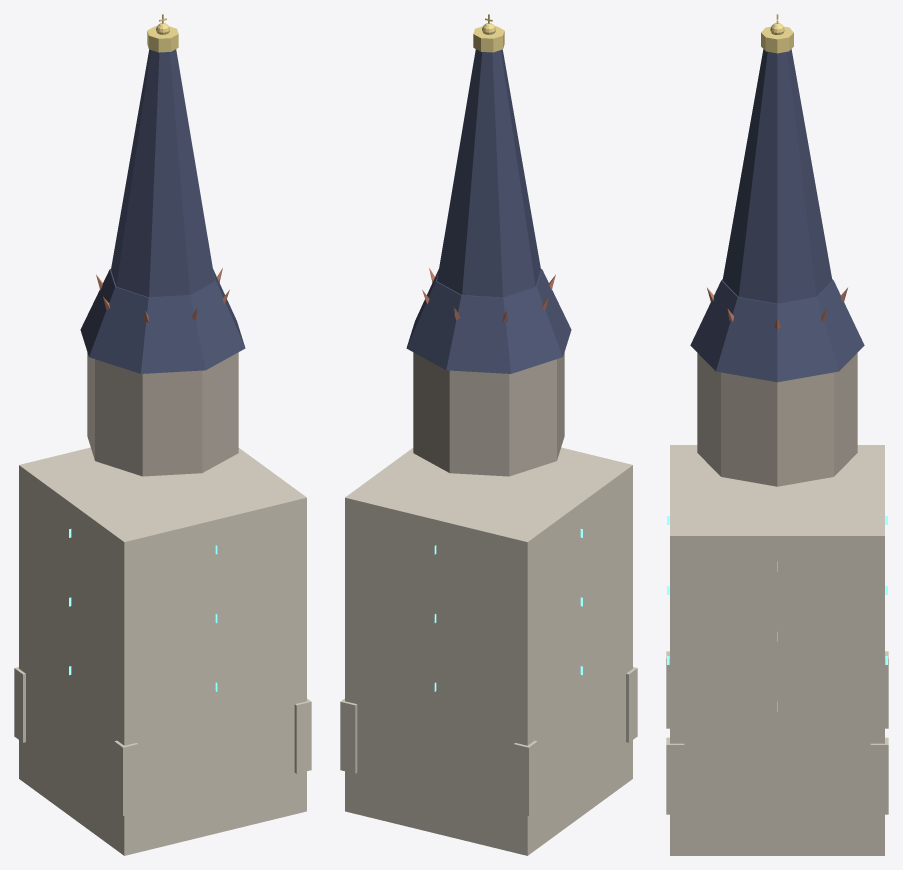
The model's file is church_spire_v12.glb.
3 views of the same model, side by side, from view 1: azimuth 30°, elevation 25°; view 2: azimuth 150°, elevation 25°; view 3: azimuth 270°, elevation 25° (orthographic).
Visible parts, largest first — view 1: Cube, Cone.001, Cylinder, Cone, Cube.001, Cube.002, Cube.003, Cylinder.001; view 2: Cube, Cone.001, Cylinder, Cone, Cube.003, Cube.004, Cube.001, Cylinder.001; view 3: Cube, Cone.001, Cylinder, Cone, Cube.002, Cube.004, Cylinder.001.
Part boxes in pixels (bbox=[...]): Cube: bbox=[19, 447, 306, 855]; Cone.001: bbox=[111, 49, 214, 297]; Cylinder: bbox=[87, 352, 238, 476]; Cone: bbox=[80, 269, 245, 373]; Cube.001: bbox=[114, 740, 138, 815]; Cube.002: bbox=[294, 698, 311, 773]; Cube.003: bbox=[14, 667, 25, 742]; Cylinder.001: bbox=[147, 26, 178, 52]; Cube: bbox=[345, 447, 632, 855]; Cone.001: bbox=[437, 49, 540, 297]; Cylinder: bbox=[413, 352, 564, 476]; Cone: bbox=[406, 269, 571, 373]; Cube.003: bbox=[513, 740, 537, 815]; Cube.004: bbox=[340, 698, 357, 773]; Cube.001: bbox=[626, 667, 637, 742]; Cylinder.001: bbox=[473, 26, 504, 52]; Cube: bbox=[670, 445, 884, 855]; Cone.001: bbox=[722, 49, 832, 303]; Cylinder: bbox=[697, 353, 857, 486]; Cone: bbox=[690, 279, 864, 382]; Cube.002: bbox=[666, 737, 684, 814]; Cube.004: bbox=[870, 737, 888, 814]; Cylinder.001: bbox=[761, 26, 793, 53].
Size of what is drawn, in the model's own units: 4.02 by 15.92 by 4.02.
